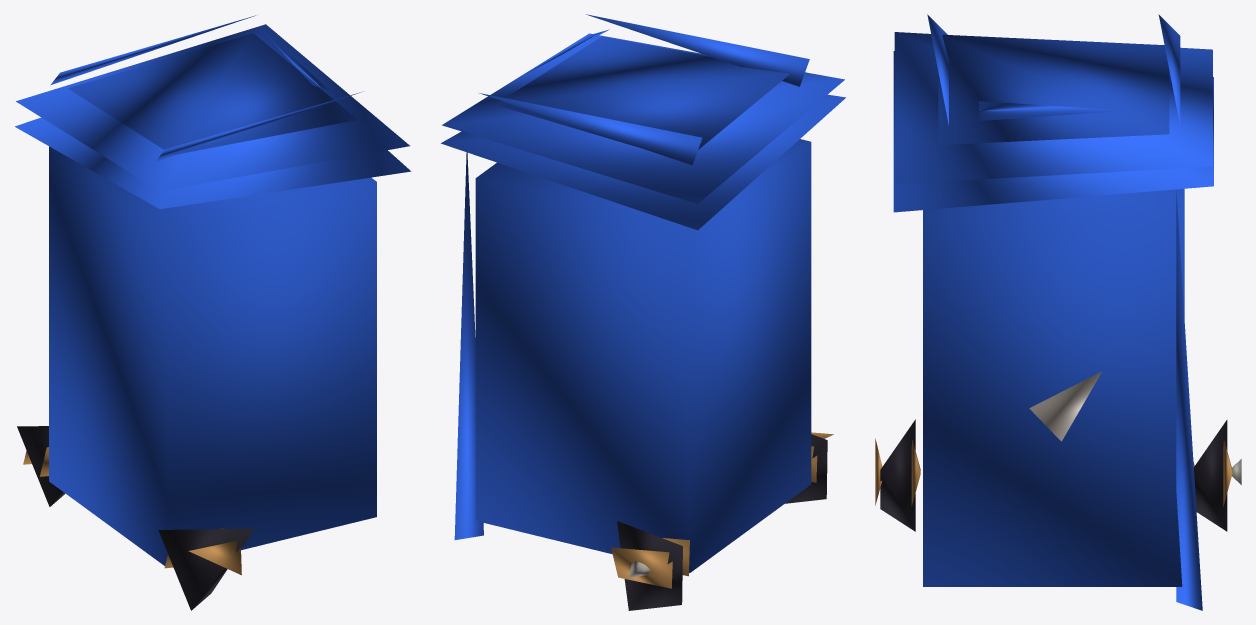
3 renders of one model, left to right at view 1: azimuth 30°, elevation 25°; view 2: azimuth 150°, elevation 25°; view 3: azimuth 270°, elevation 25°, orthographic. The views are drawn at different scales.
Visible parts, largest first — view 1: root_pal_policeBlue, lid_pal_policeBlue, root_pal_uiDark, root_pal_brass; view 2: root_pal_policeBlue, lid_pal_policeBlue, root_pal_uiDark, root_pal_brass; view 3: root_pal_policeBlue, lid_pal_policeBlue, root_pal_uiDark, root_pal_picketWhite, root_pal_brass.
Part boxes in pixels (left/top/right/bottom): root_pal_policeBlue: left=15, top=117, right=411, bottom=565; lid_pal_policeBlue: left=16, top=15, right=409, bottom=190; root_pal_uiDark: left=17, top=426, right=254, bottom=610; root_pal_brass: left=23, top=447, right=241, bottom=575; root_pal_policeBlue: left=441, top=94, right=845, bottom=572; lid_pal_policeBlue: left=442, top=14, right=844, bottom=203; root_pal_uiDark: left=617, top=434, right=827, bottom=610; root_pal_brass: left=611, top=432, right=833, bottom=588; root_pal_policeBlue: left=893, top=51, right=1213, bottom=610; lid_pal_policeBlue: left=894, top=14, right=1212, bottom=184; root_pal_uiDark: left=880, top=419, right=1227, bottom=531; root_pal_picketWhite: left=1029, top=371, right=1101, bottom=441; root_pal_brass: left=875, top=438, right=1232, bottom=506.
Size of the model in its own units: 0.6371 by 1.1 by 0.7293.
